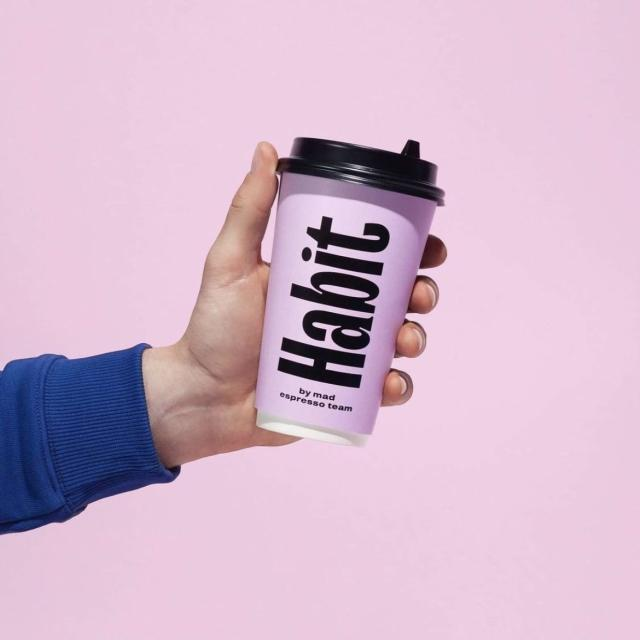paper cup: (254, 137, 445, 448)
